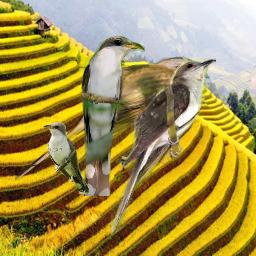Cuckoo: (15, 56, 210, 182), (111, 58, 216, 235), (80, 35, 145, 196), (43, 121, 89, 194)
